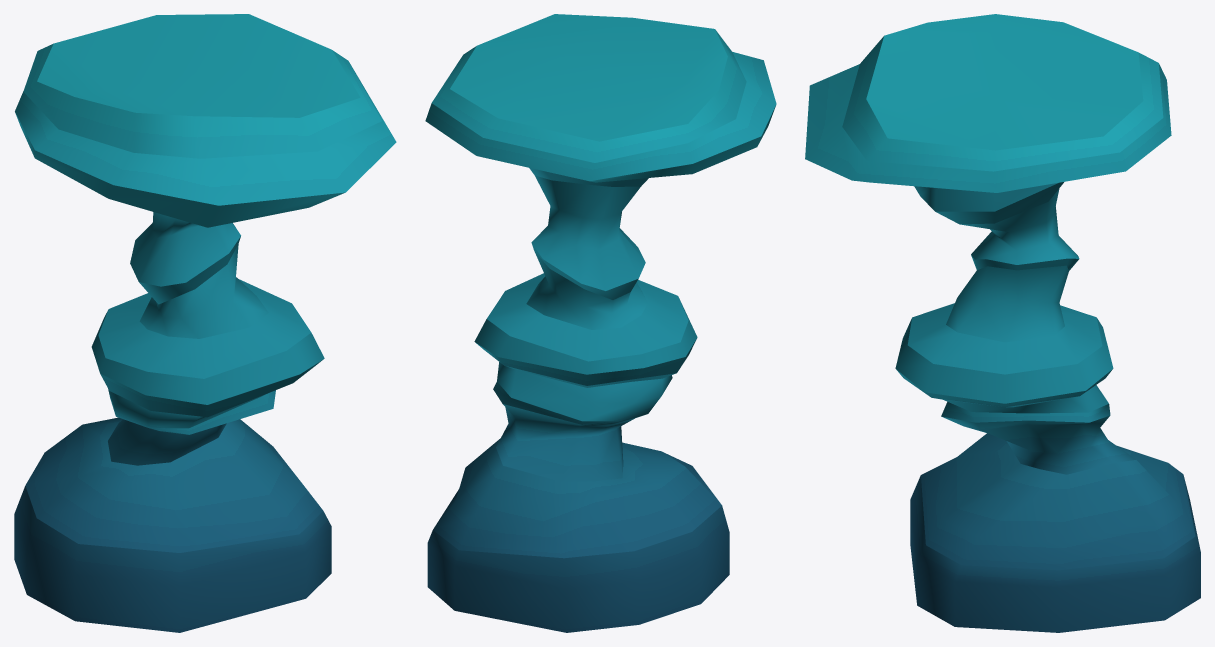
File: RockH.fbx
3 views of the same model, side by side, from view 1: azimuth 30°, elevation 25°; view 2: azimuth 150°, elevation 25°; view 3: azimuth 270°, elevation 25° (orthographic). The views are drawn at different scales.
Visible parts, largest first — view 1: RockH; view 2: RockH; view 3: RockH.
Boxes of the visible parts, x1,y1,x2,y2 form: RockH: (14, 14, 396, 632); RockH: (425, 14, 776, 632); RockH: (805, 14, 1200, 632).
Size of the model in its own units: 355 by 552 by 389.
Materials: 1 (1 with a texture image).
